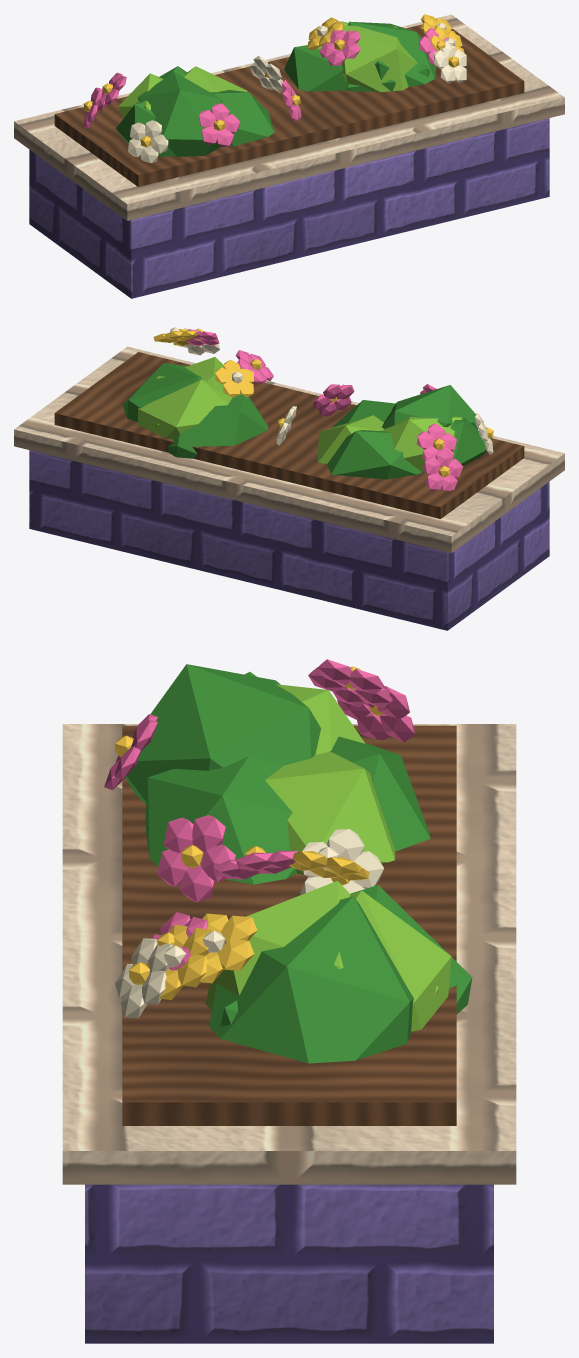
The model's file is Jardinera.fbx.
The picture shows the model from 3 angles, top to bottom: view 1: azimuth 30°, elevation 25°; view 2: azimuth 150°, elevation 25°; view 3: azimuth 270°, elevation 25°; orthographic projection. The views are drawn at different scales.
Visible parts, largest first — view 1: Kit_Jardinera; view 2: Kit_Jardinera; view 3: Kit_Jardinera.
Boxes of the visible parts, bbox=[...] form: Kit_Jardinera: bbox=[14, 14, 564, 298]; Kit_Jardinera: bbox=[14, 327, 564, 630]; Kit_Jardinera: bbox=[62, 659, 516, 1343].
Bounding box in the file's own units: 2.72 × 1.02 × 1.22.
